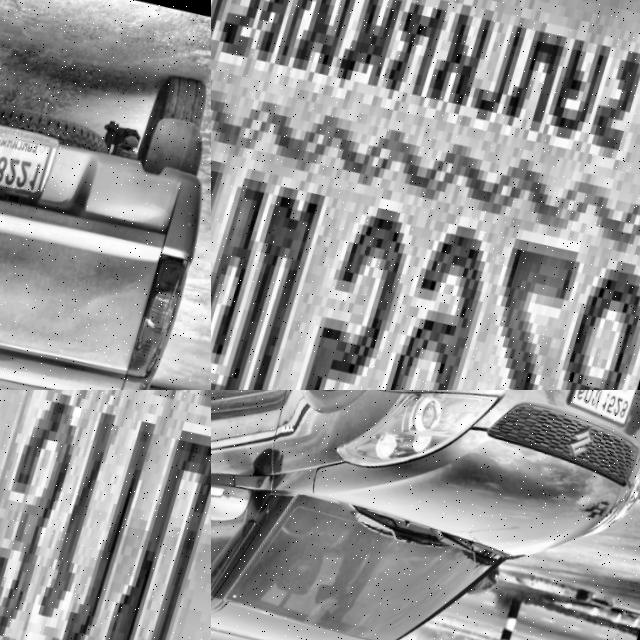license-plate: (211, 0, 640, 390), (0, 390, 211, 640), (0, 114, 65, 217), (566, 390, 640, 435)
